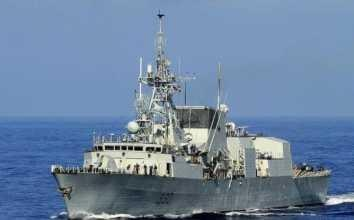warship: (48, 8, 333, 219)
